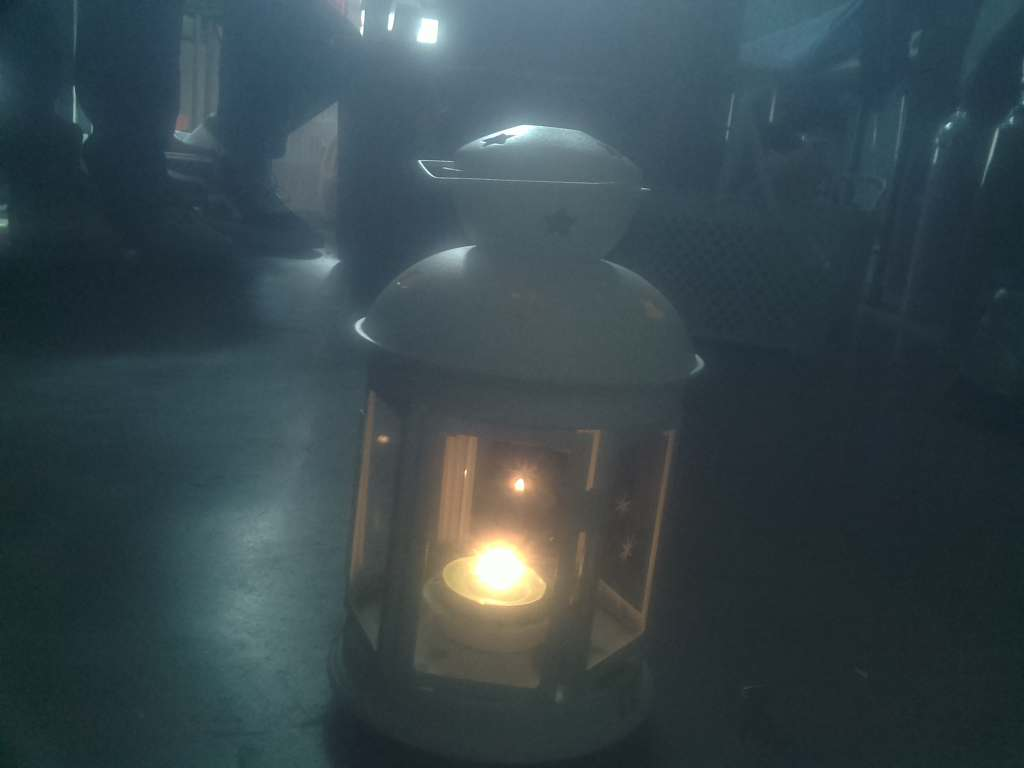fire: (441, 523, 563, 644)
